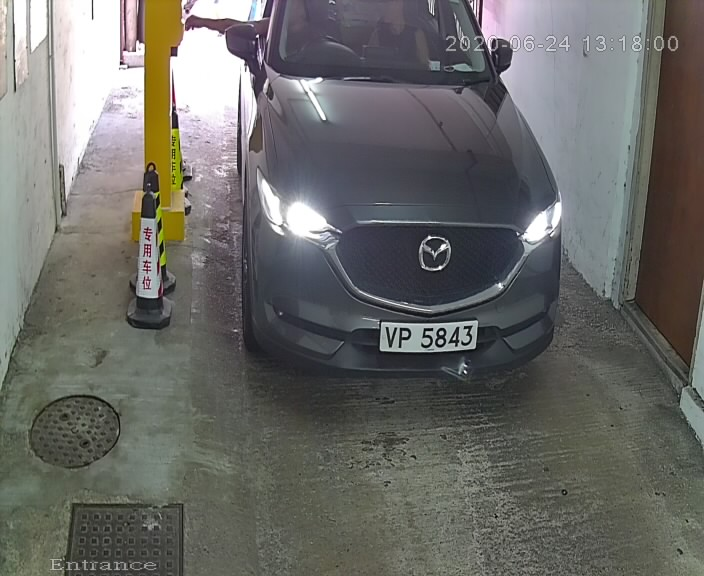Car: (205, 1, 588, 399)
License Plate: (373, 308, 483, 362)
